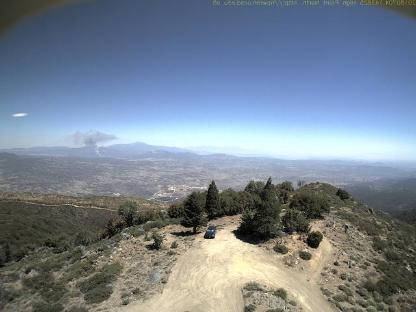smoke: (62, 128, 120, 156)
